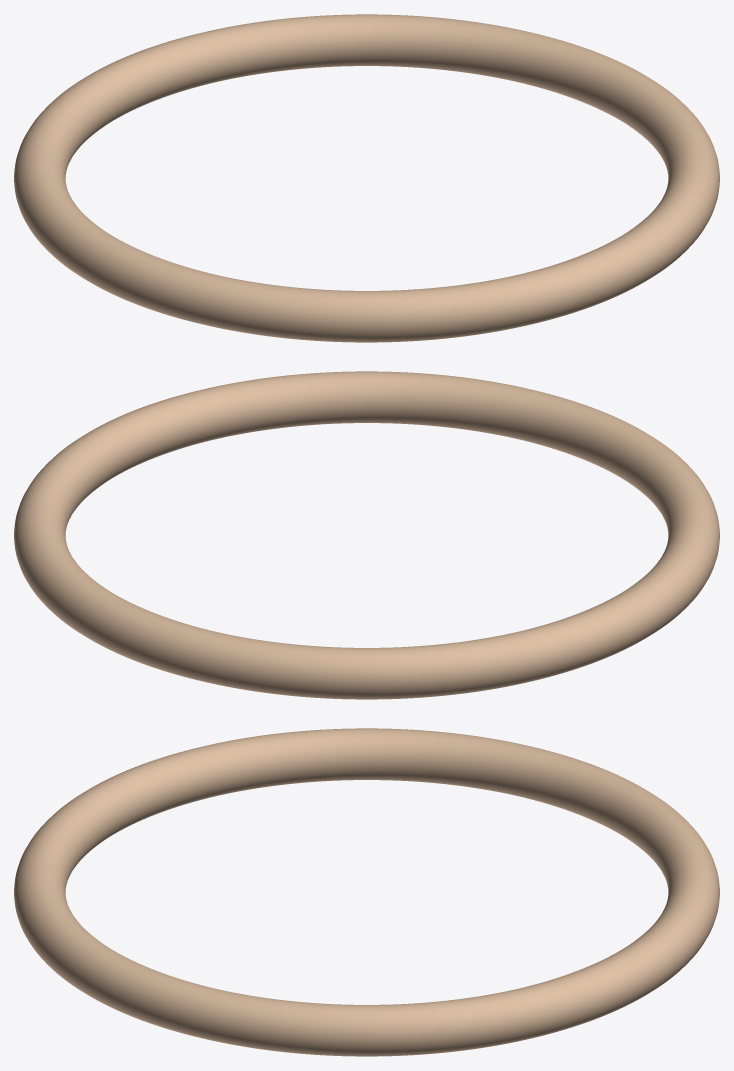
3 views of the same model, one above another, from view 1: azimuth 30°, elevation 25°; view 2: azimuth 150°, elevation 25°; view 3: azimuth 270°, elevation 25° (orthographic).
Parts seen in each view (by area): view 1: test_torus; view 2: test_torus; view 3: test_torus.
Boxes of the visible parts, left/top/right/bottom form: test_torus: left=14, top=14, right=719, bottom=342; test_torus: left=14, top=371, right=719, bottom=699; test_torus: left=14, top=728, right=719, bottom=1056.
Bounding box in the file's own units: 820 × 60 × 820.
